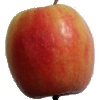apple: (6, 5, 95, 100)
